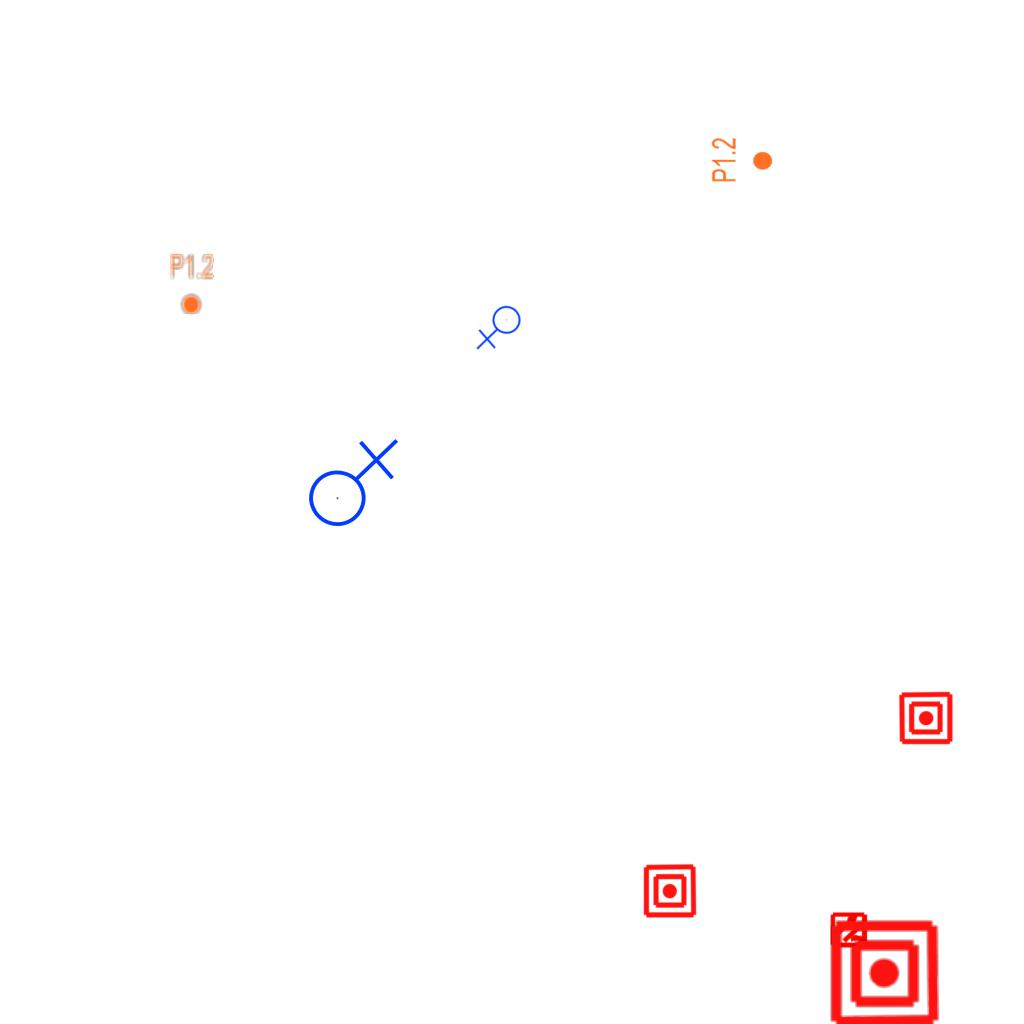Downlight_LED_Einbauleuchten_Flur: (169, 252, 215, 316), (710, 137, 774, 183)
Elektroanschluss_allgemein_230V_Geraeteanschlussdose_230V: (300, 434, 399, 528), (476, 305, 525, 352)
NAM-Nichtautomatischer_Melder: (828, 917, 941, 1024), (642, 863, 698, 919), (898, 690, 954, 746)
OT_Multisensormelder_(Kombination_RMO_WMD): (822, 902, 878, 958)
